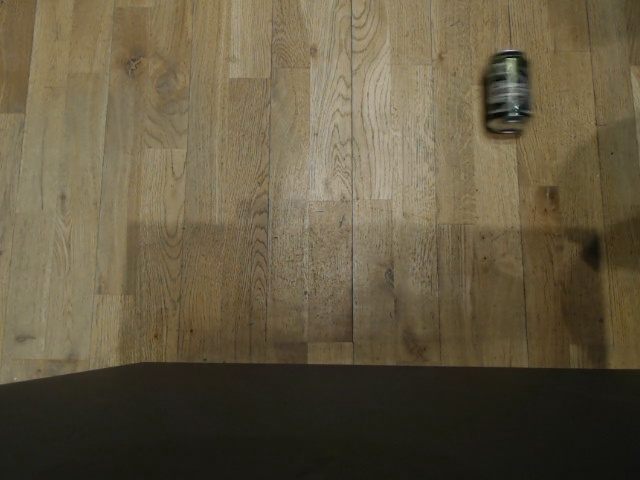beer: (476, 47, 536, 139)
